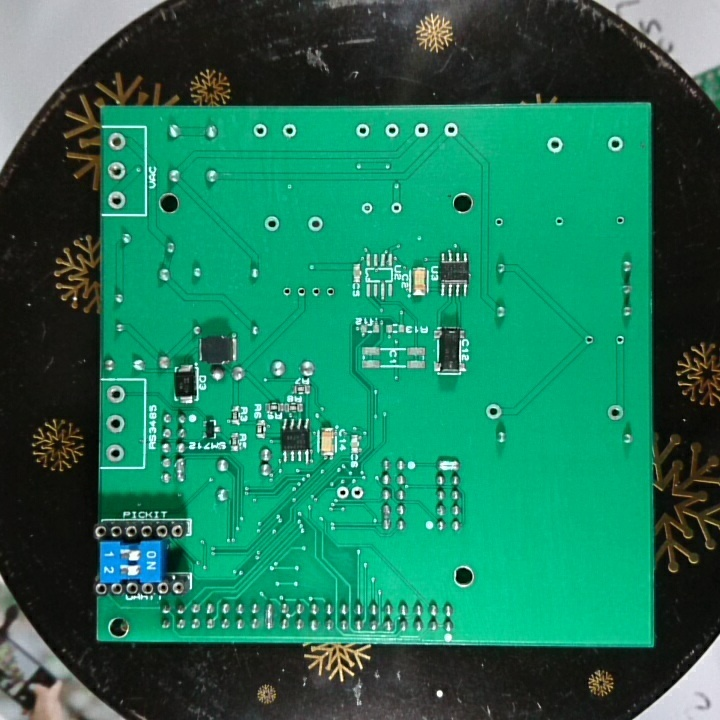F: (105, 411, 126, 437), (481, 401, 507, 422), (106, 130, 128, 153), (106, 189, 128, 212), (105, 383, 127, 406), (104, 441, 126, 464), (605, 401, 627, 424), (105, 158, 126, 182), (605, 134, 627, 156), (279, 120, 299, 144), (262, 213, 283, 235), (304, 214, 325, 236), (545, 134, 567, 155), (251, 121, 271, 143), (353, 120, 373, 142), (383, 120, 402, 140), (442, 120, 461, 140), (550, 214, 569, 232), (412, 120, 429, 140), (350, 483, 365, 505), (388, 200, 405, 218), (580, 332, 598, 349), (334, 484, 350, 503), (308, 283, 322, 303), (613, 332, 629, 349), (323, 283, 337, 302), (358, 200, 375, 215), (613, 212, 628, 229), (492, 215, 508, 230), (295, 285, 308, 303), (280, 284, 294, 299)
P: (378, 500, 394, 532), (172, 456, 188, 486), (434, 457, 462, 472), (263, 600, 275, 632)
